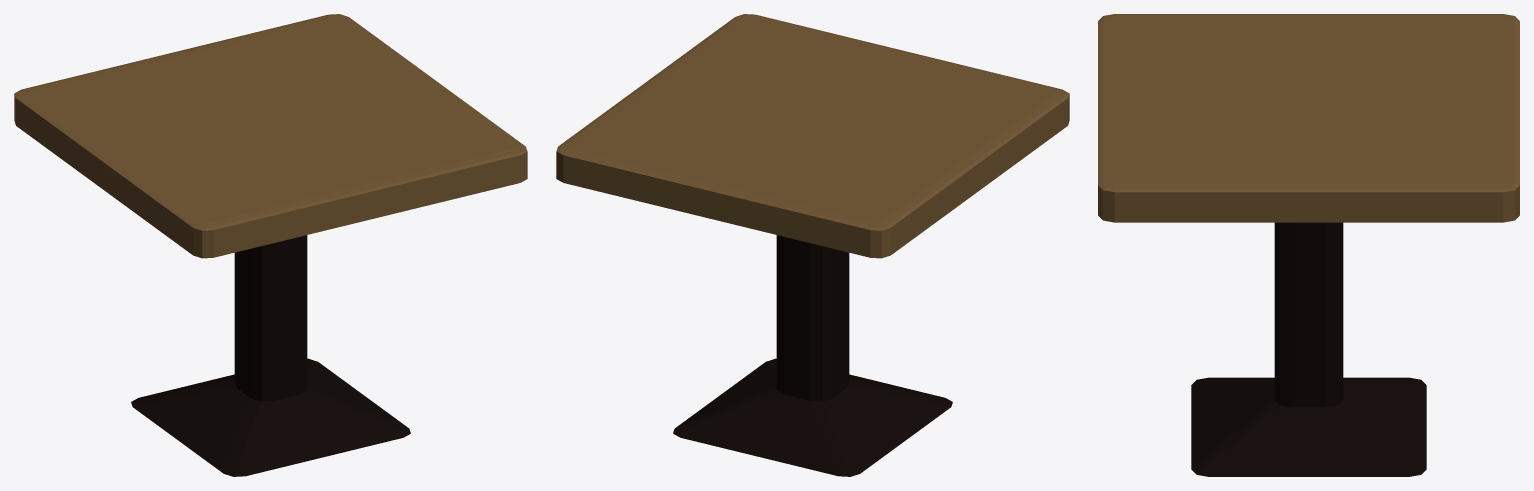
File: Table.fbx
3 renders of one model, left to right at view 1: azimuth 30°, elevation 25°; view 2: azimuth 150°, elevation 25°; view 3: azimuth 270°, elevation 25°, orthographic. The views are drawn at different scales.
Visible parts, largest first — view 1: Cube.003; view 2: Cube.003; view 3: Cube.003.
Boxes of the visible parts, x1,y1,x2,y2 form: Cube.003: (14, 14, 527, 476); Cube.003: (556, 14, 1069, 476); Cube.003: (1098, 14, 1519, 476).
Bounding box in the file's own units: 83.31 × 70.94 × 83.31.
